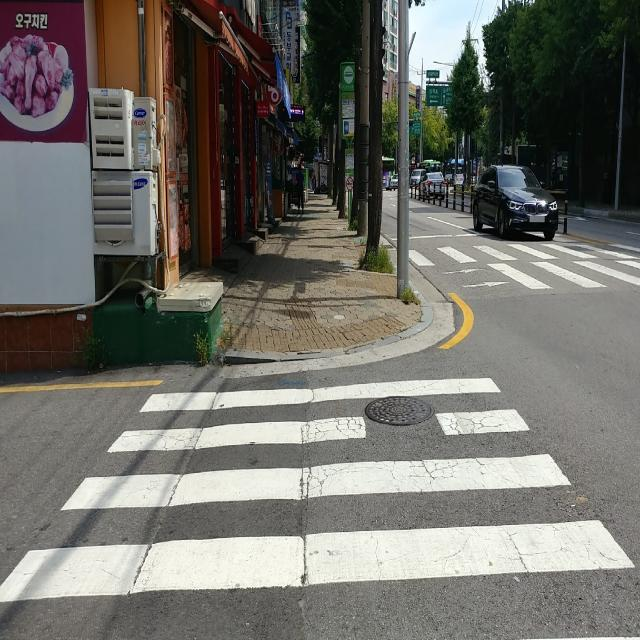횡단보도: (0, 376, 640, 639), (401, 239, 640, 289)
